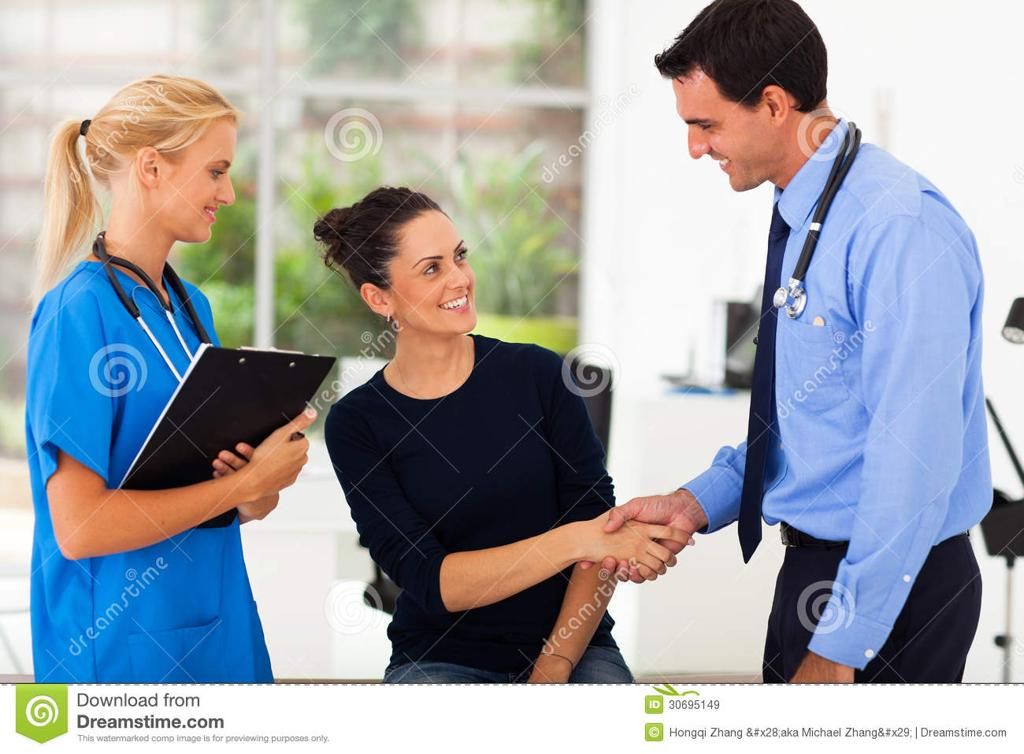face: (680, 70, 760, 188), (400, 212, 472, 332), (178, 112, 236, 242)
